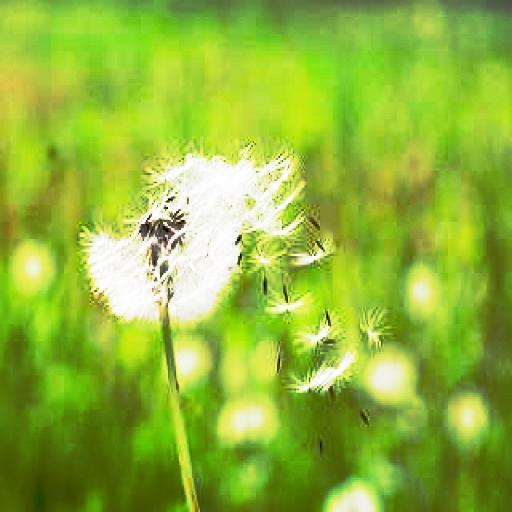dandelion: (78, 158, 248, 324)
